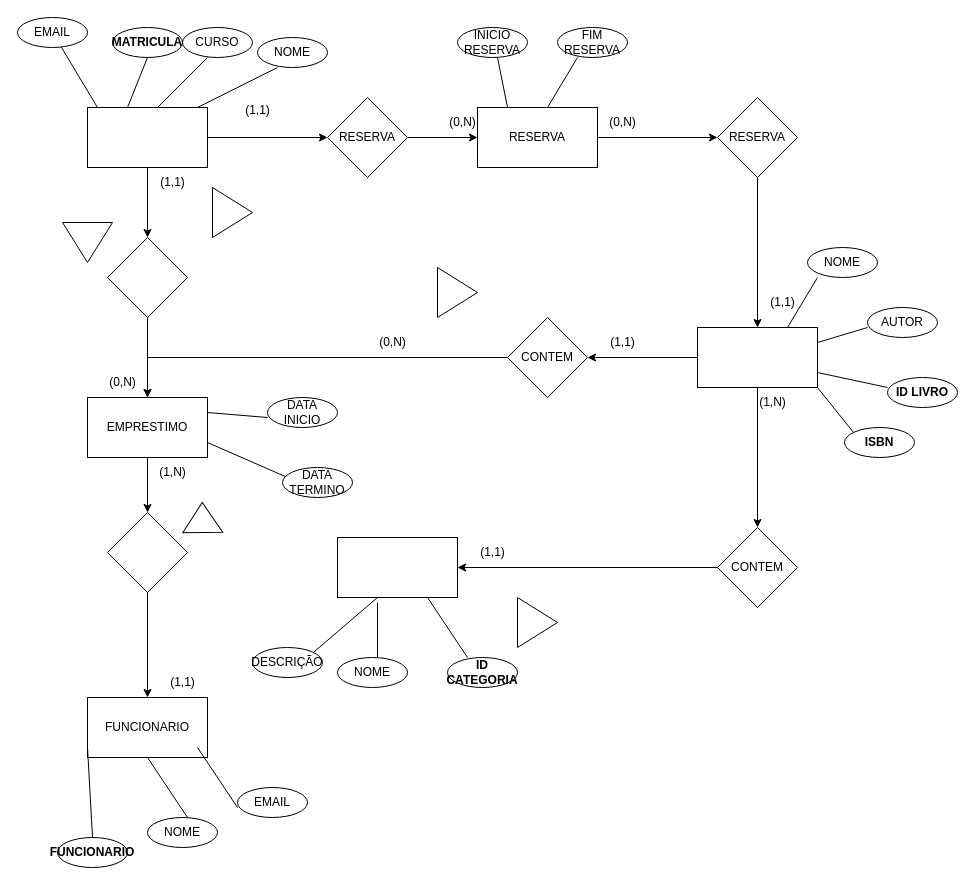
Image size: 975x885. Some labels were removed from this diagram. The shapes that lost their labels are listed below. From the top down, each one's box as (x1, y1, x2, y2) in pixels, then its label:
(86, 106, 208, 168): aluno
(106, 236, 188, 318): REALIZA
(696, 326, 818, 388): LIVRO
(106, 512, 188, 592): REGISTRA
(336, 536, 458, 598): CATEGORIA
